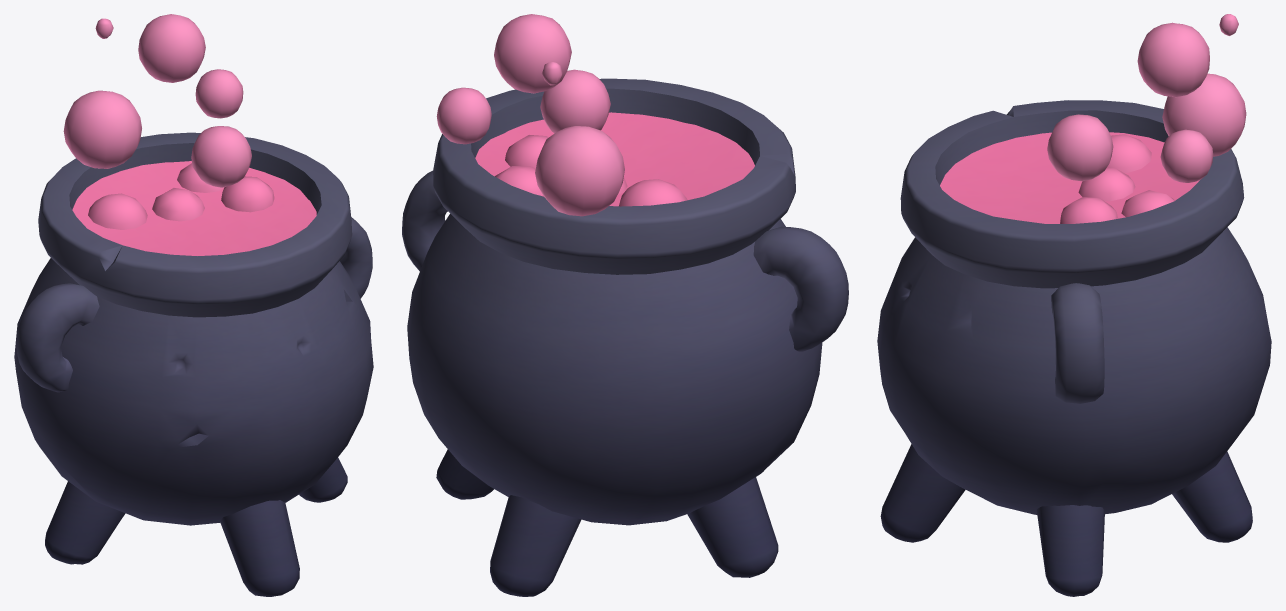
The model's file is WBA_Witch_Cauldron_Small_01.fbx.
3 renders of one model, left to right at view 1: azimuth 30°, elevation 25°; view 2: azimuth 150°, elevation 25°; view 3: azimuth 270°, elevation 25°, orthographic. The views are drawn at different scales.
Visible parts, largest first — view 1: WBA_Witch_Cauldron_Small_01; view 2: WBA_Witch_Cauldron_Small_01; view 3: WBA_Witch_Cauldron_Small_01.
Part boxes in pixels (bbox=[...]): WBA_Witch_Cauldron_Small_01: bbox=[14, 14, 373, 596]; WBA_Witch_Cauldron_Small_01: bbox=[402, 14, 848, 596]; WBA_Witch_Cauldron_Small_01: bbox=[877, 14, 1271, 596].
Bounding box in the file's own units: 28.39 × 36.11 × 24.64.
